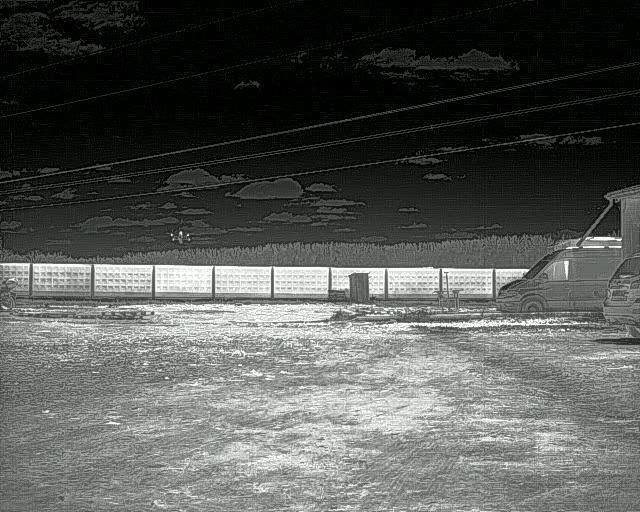drone-thermal: (169, 228, 193, 245)
